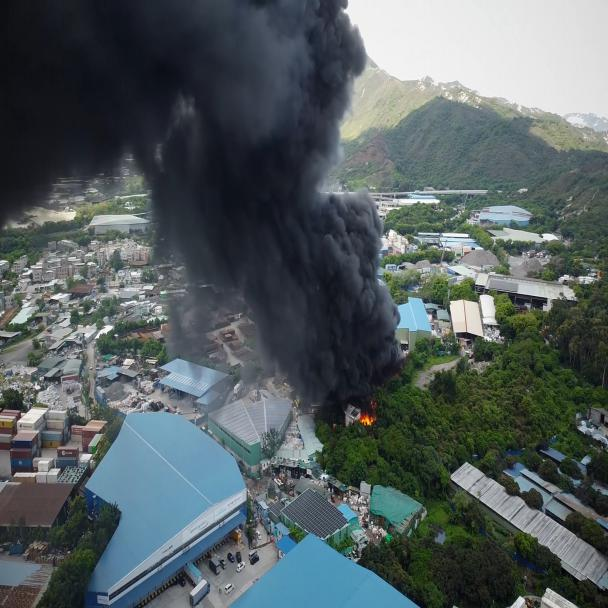Fire: (281, 364, 429, 474)
smoke: (3, 0, 434, 322)
